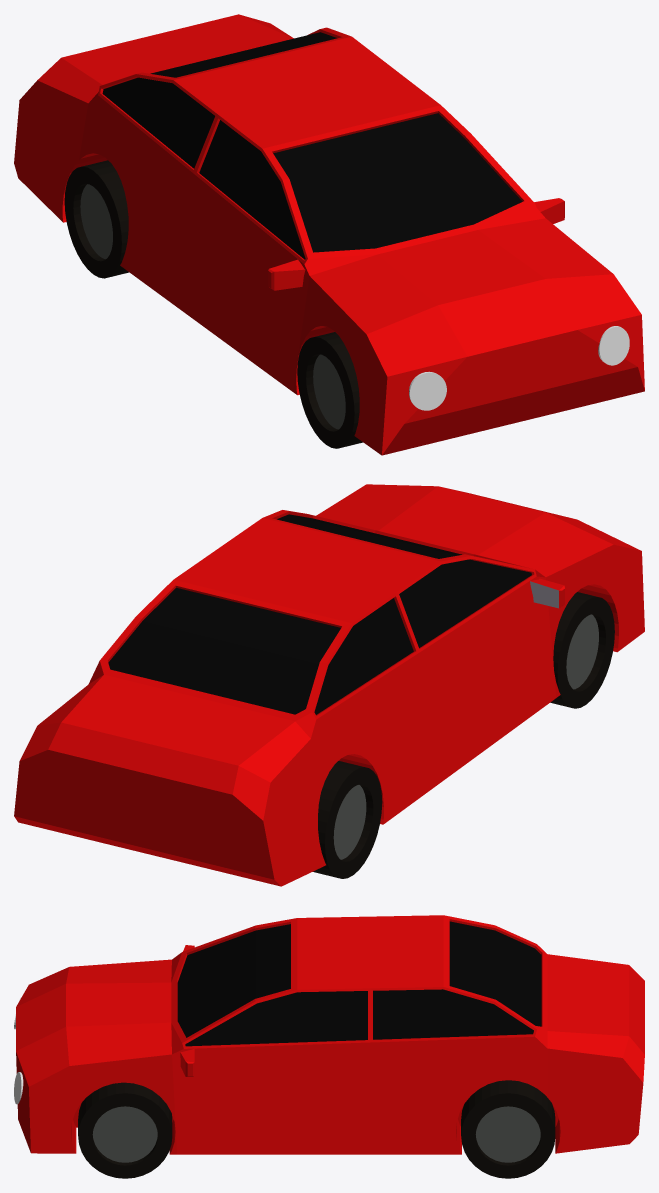
The model's file is Car.fbx.
3 views of the same model, one above another, from view 1: azimuth 30°, elevation 25°; view 2: azimuth 150°, elevation 25°; view 3: azimuth 270°, elevation 25° (orthographic). The views are drawn at different scales.
Visible parts, largest first — view 1: Car, BackRightWheel, FrontRightWheel, Lights, Mirrors; view 2: Car, BackRightWheel, FrontRightWheel, Mirrors; view 3: Car, BackLeftWheel, FrontLeftWheel, Mirrors.
Part boxes in pixels (bbox=[...]): Car: bbox=[14, 14, 644, 455]; BackRightWheel: bbox=[64, 160, 128, 278]; FrontRightWheel: bbox=[297, 332, 362, 448]; Lights: bbox=[409, 326, 629, 410]; Mirrors: bbox=[268, 198, 564, 290]; Car: bbox=[14, 484, 644, 886]; BackRightWheel: bbox=[313, 761, 382, 878]; FrontRightWheel: bbox=[550, 592, 614, 708]; Mirrors: bbox=[530, 578, 564, 608]; Car: bbox=[16, 915, 644, 1154]; BackLeftWheel: bbox=[461, 1080, 555, 1178]; FrontLeftWheel: bbox=[78, 1082, 172, 1178]; Mirrors: bbox=[180, 945, 194, 1076].
Bounding box in the file's own units: 223 × 155 × 505.
